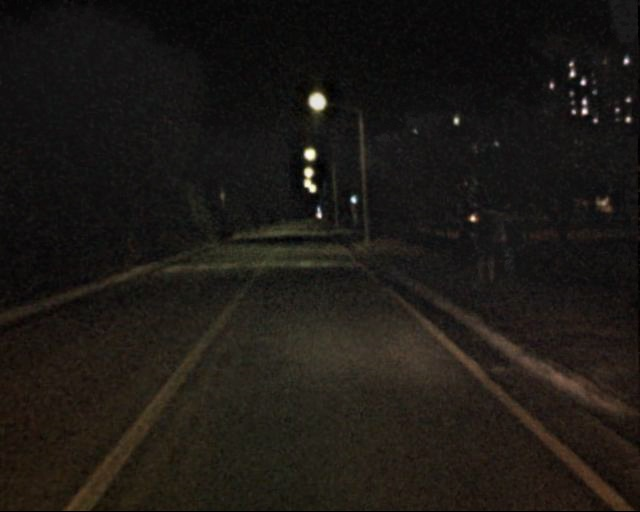person: (494, 211, 523, 281), (470, 213, 498, 281)
